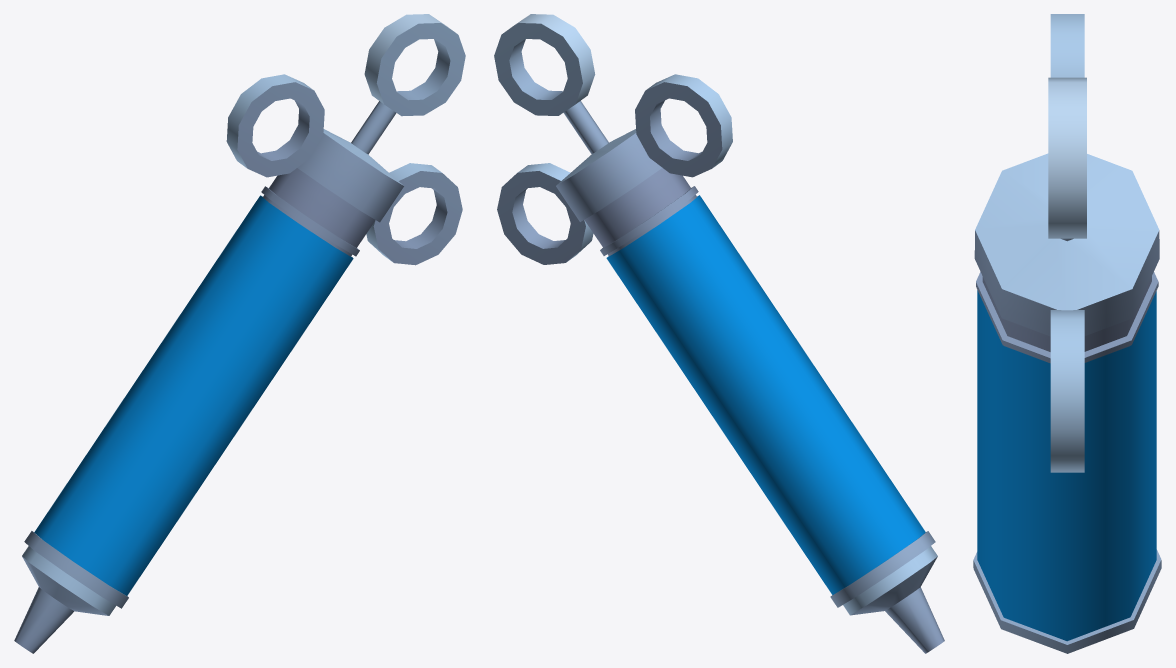
Rendered from Injector.fbx.
3 views of the same model, side by side, from view 1: azimuth 30°, elevation 25°; view 2: azimuth 150°, elevation 25°; view 3: azimuth 270°, elevation 25° (orthographic). The views are drawn at different scales.
Visible parts, largest first — view 1: Injector; view 2: Injector; view 3: Injector.
Part boxes in pixels (left/top/right/bottom): Injector: left=14, top=14, right=465, bottom=653; Injector: left=494, top=14, right=944, bottom=653; Injector: left=973, top=14, right=1161, bottom=653.
Size of the model in its own units: 71.02 by 82.74 by 16.53.
